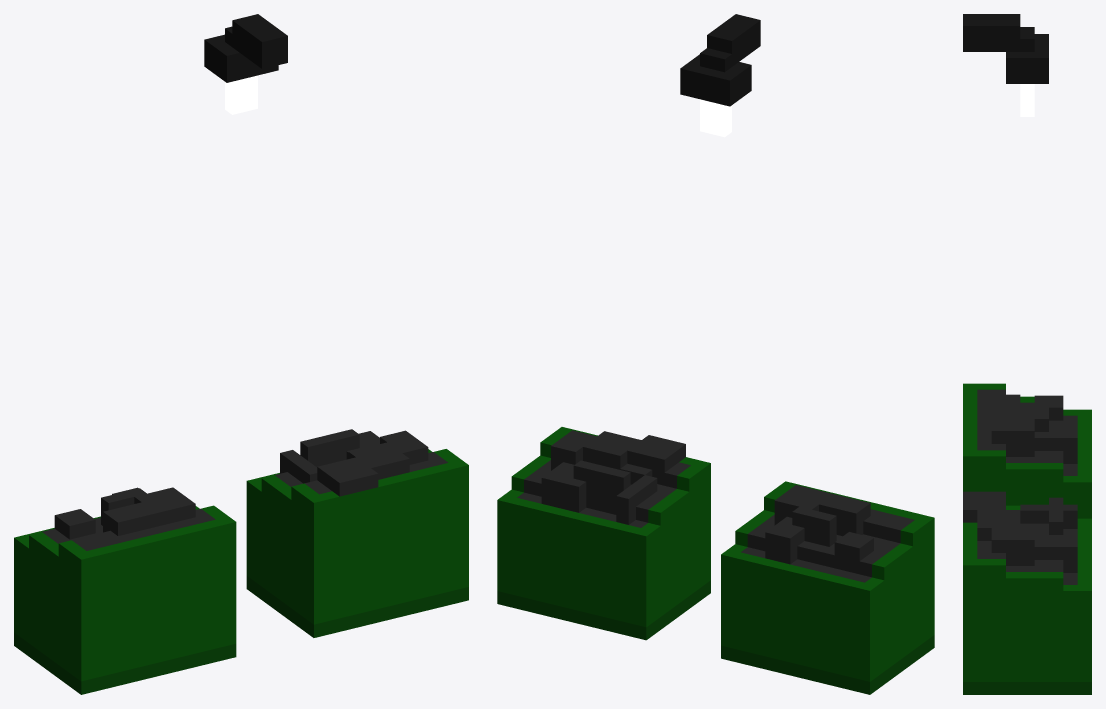
Rendered from trashBinOne.glb.
3 views of the same model, side by side, from view 1: azimuth 30°, elevation 25°; view 2: azimuth 150°, elevation 25°; view 3: azimuth 270°, elevation 25° (orthographic). The views are drawn at different scales.
Parts seen in each view (by area): view 1: ObjObject; view 2: ObjObject; view 3: ObjObject.
Part boxes in pixels (left/top/right/bottom): ObjObject: left=14, top=14, right=468, bottom=694; ObjObject: left=497, top=14, right=934, bottom=694; ObjObject: left=963, top=14, right=1091, bottom=694.
Size of the model in its own units: 3 by 4.5 by 0.9.
Materials: 2 (1 with a texture image).
